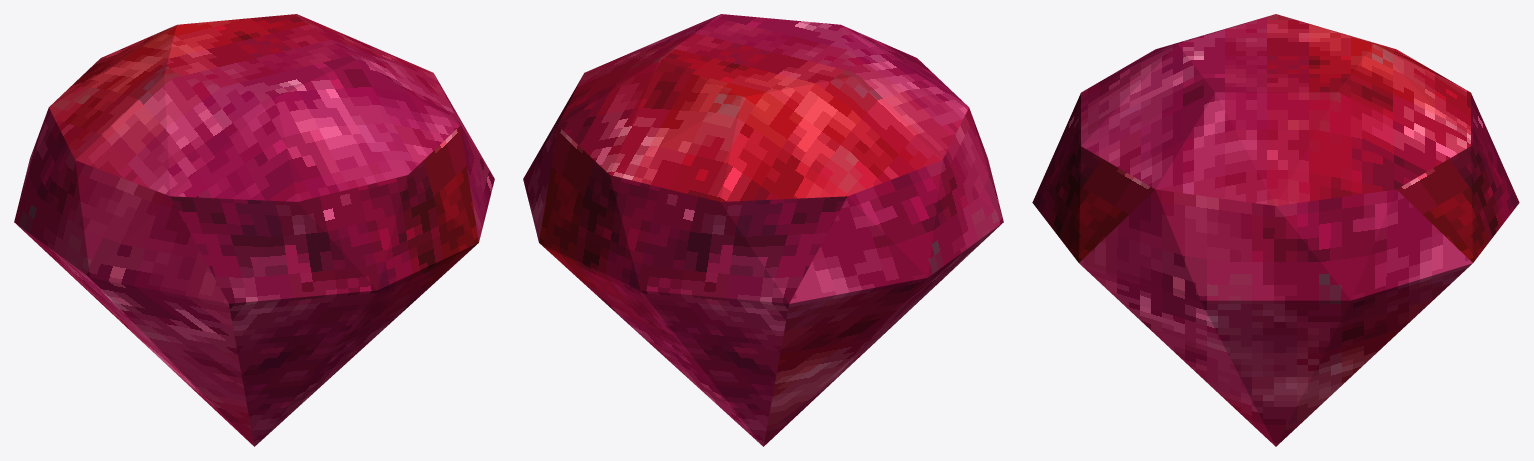
Rendered from jw_ruby.glb.
3 views of the same model, side by side, from view 1: azimuth 30°, elevation 25°; view 2: azimuth 150°, elevation 25°; view 3: azimuth 270°, elevation 25° (orthographic).
Parts seen in each view (by area): view 1: jw_ruby; view 2: jw_ruby; view 3: jw_ruby.
Part boxes in pixels (box(x1,y1,x2,y2)): jw_ruby: box(14, 14, 494, 446); jw_ruby: box(523, 14, 1003, 446); jw_ruby: box(1032, 14, 1519, 446).
Size of the model in its own units: 0.055 by 0.051 by 0.0579.
1 material, 1 textured.
